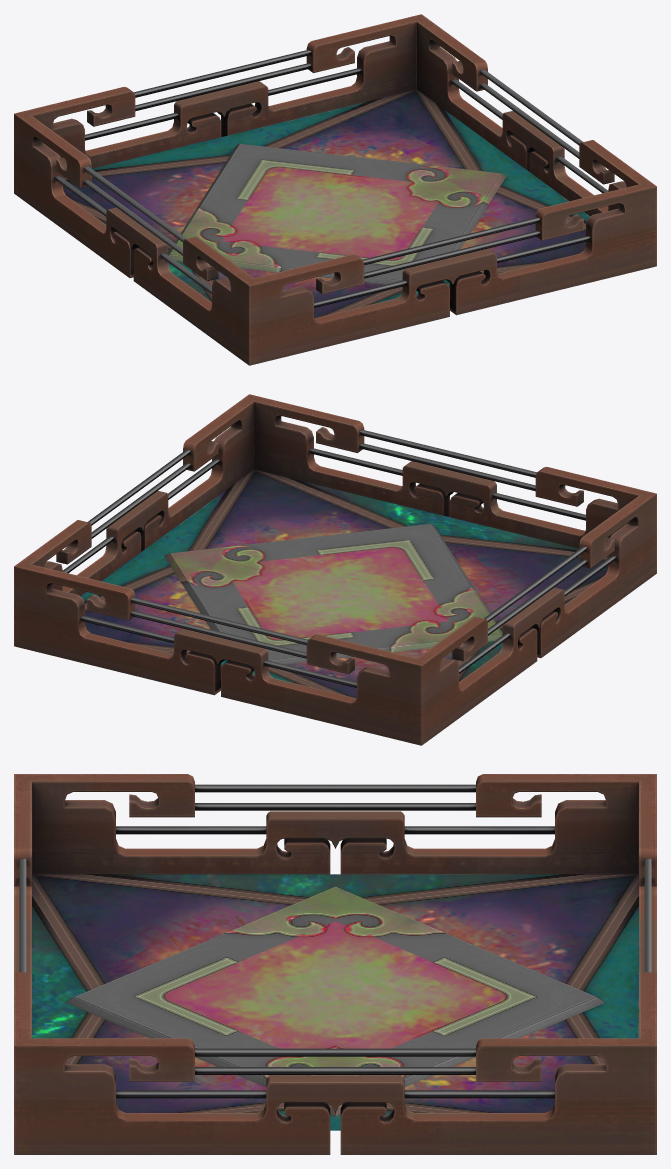
Rendered from trap_239_dyffgd.fbx.
3 views of the same model, one above another, from view 1: azimuth 30°, elevation 25°; view 2: azimuth 150°, elevation 25°; view 3: azimuth 270°, elevation 25° (orthographic). The views are drawn at different scales.
Visible parts, largest first — view 1: trap_239_dyffgd; view 2: trap_239_dyffgd; view 3: trap_239_dyffgd.
Part boxes in pixels (left/top/right/bottom): trap_239_dyffgd: left=14, top=14, right=656, bottom=365; trap_239_dyffgd: left=14, top=394, right=656, bottom=745; trap_239_dyffgd: left=14, top=774, right=656, bottom=1154.
Bounding box in the file's own units: 1 × 0.1873 × 1.
1 material, 1 textured.
